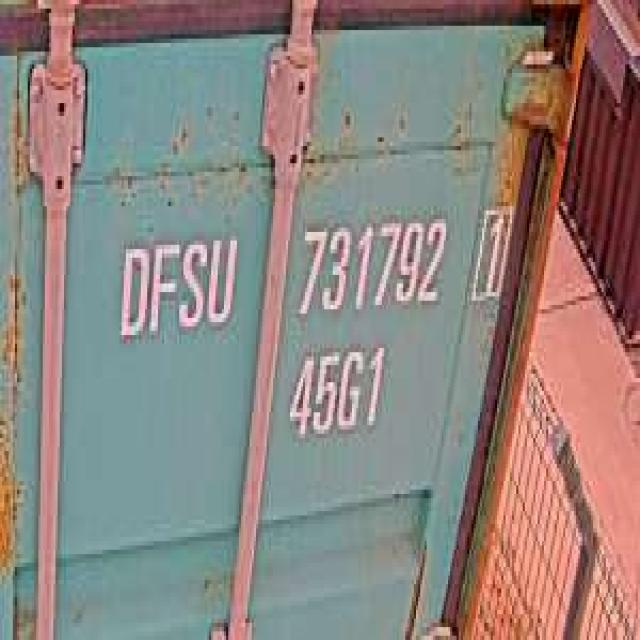dv: (467, 185, 514, 309)
owner: (109, 219, 241, 344)
serial: (290, 202, 450, 322)
size: (284, 335, 388, 447)
